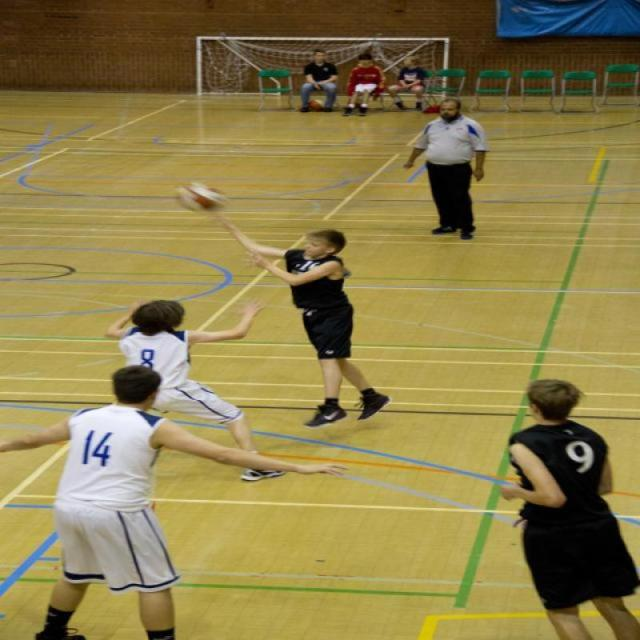volleyball: (173, 180, 230, 212)
